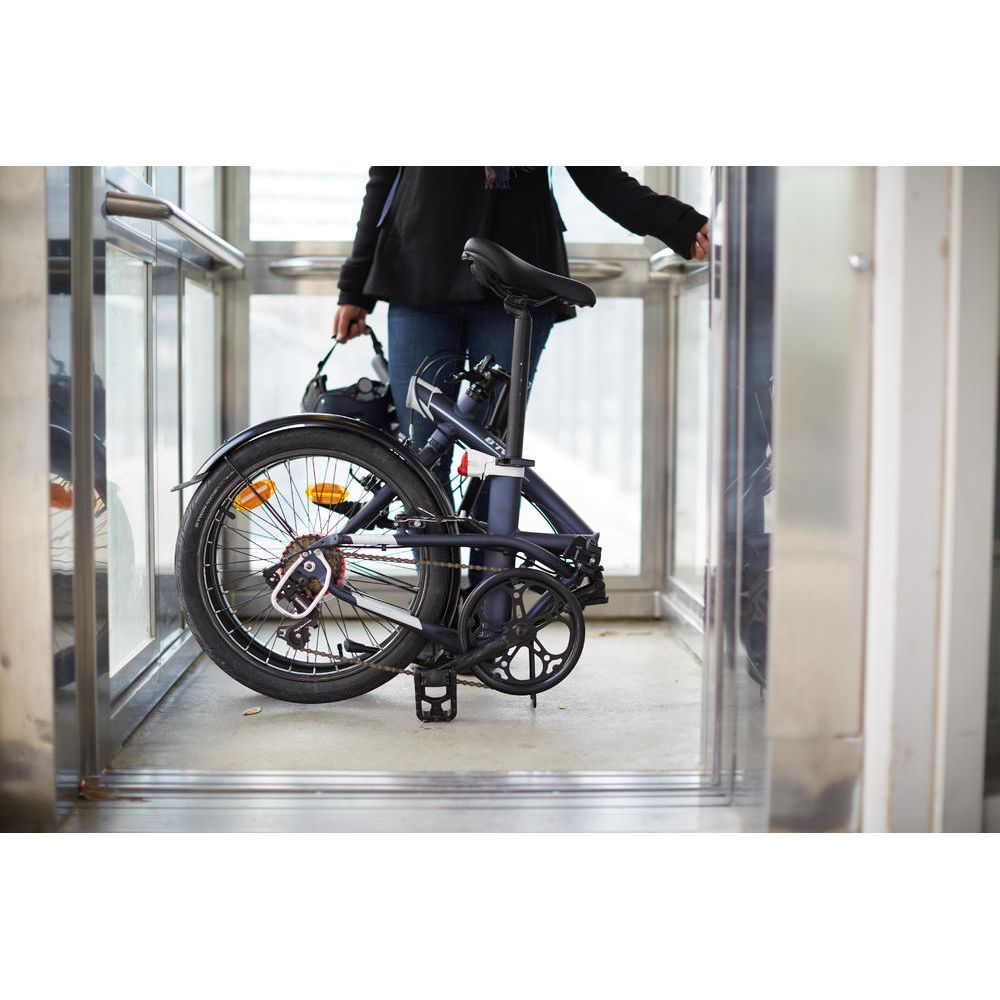UrbanBike: (186, 310, 640, 721)
